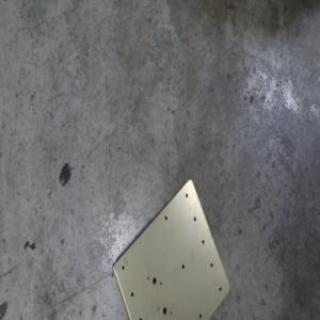MetalSheettrack_idkeyframe: (109, 175, 230, 319)
